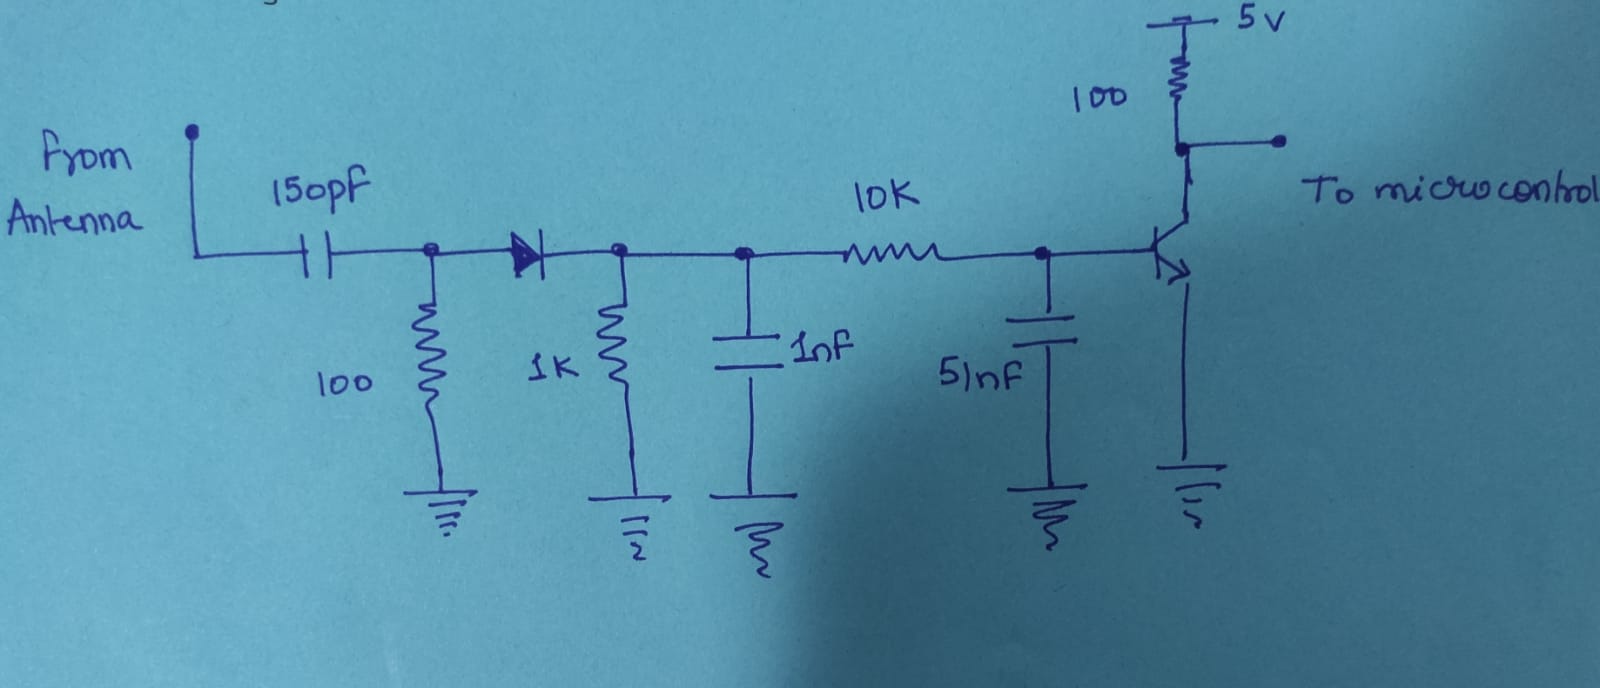capacitor.unpolarized: (1002, 309, 1084, 355), (712, 327, 785, 375), (292, 229, 337, 279)
diode: (504, 226, 551, 278)
gnd: (709, 485, 798, 580), (584, 488, 673, 567), (1153, 448, 1233, 536), (1004, 475, 1088, 549), (402, 480, 477, 536)
junction: (601, 234, 636, 262), (1030, 241, 1059, 268), (727, 244, 762, 265), (1170, 136, 1199, 161), (417, 239, 448, 261), (187, 243, 210, 269)
resistor: (409, 294, 449, 408), (834, 235, 950, 274), (595, 296, 631, 390), (1164, 50, 1194, 106)
terminal: (176, 117, 210, 151), (1259, 128, 1292, 156)
text: (8, 129, 142, 239), (1299, 168, 1599, 207), (265, 160, 370, 208), (933, 349, 1026, 395), (791, 327, 858, 365), (851, 178, 918, 215), (524, 350, 585, 388), (1068, 80, 1129, 112), (313, 368, 376, 395), (1236, 4, 1288, 36)
transistor: (1143, 216, 1194, 288)
voltage.dc: (1146, 12, 1226, 29)
